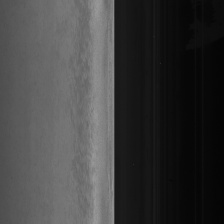silk_spot: (74, 88, 98, 168)
